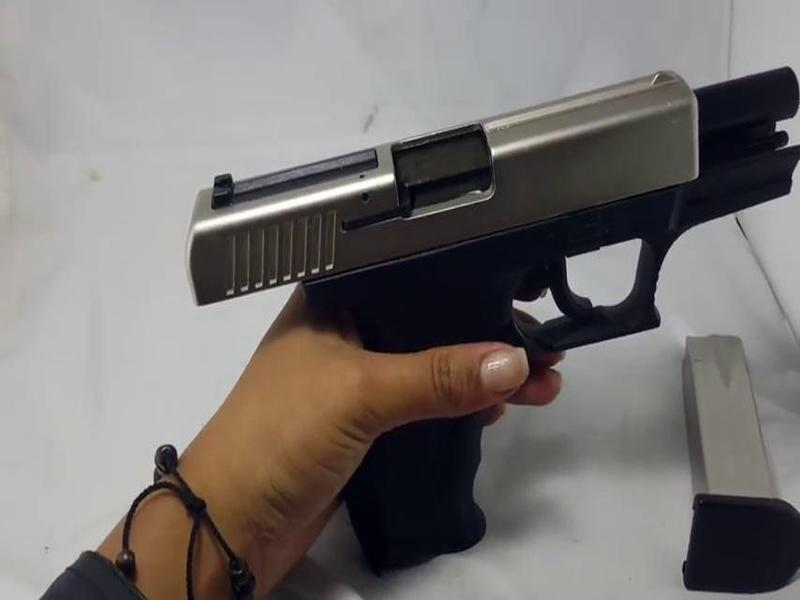Pistola: (167, 56, 800, 579)
